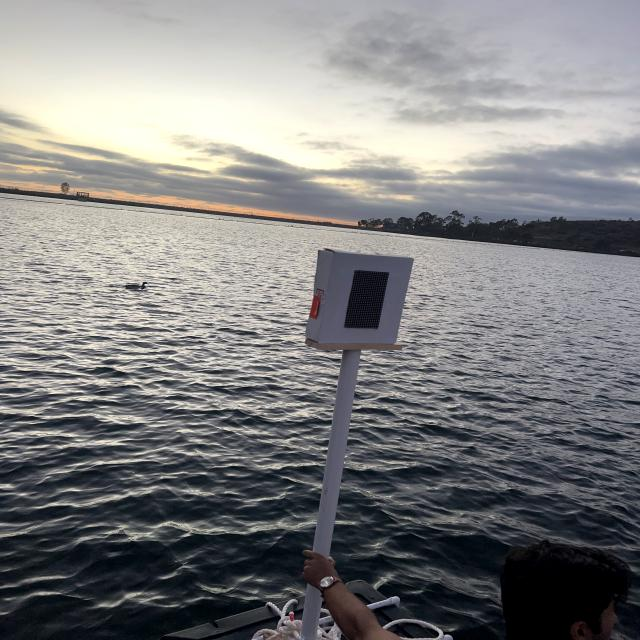led: (335, 254, 402, 354)
